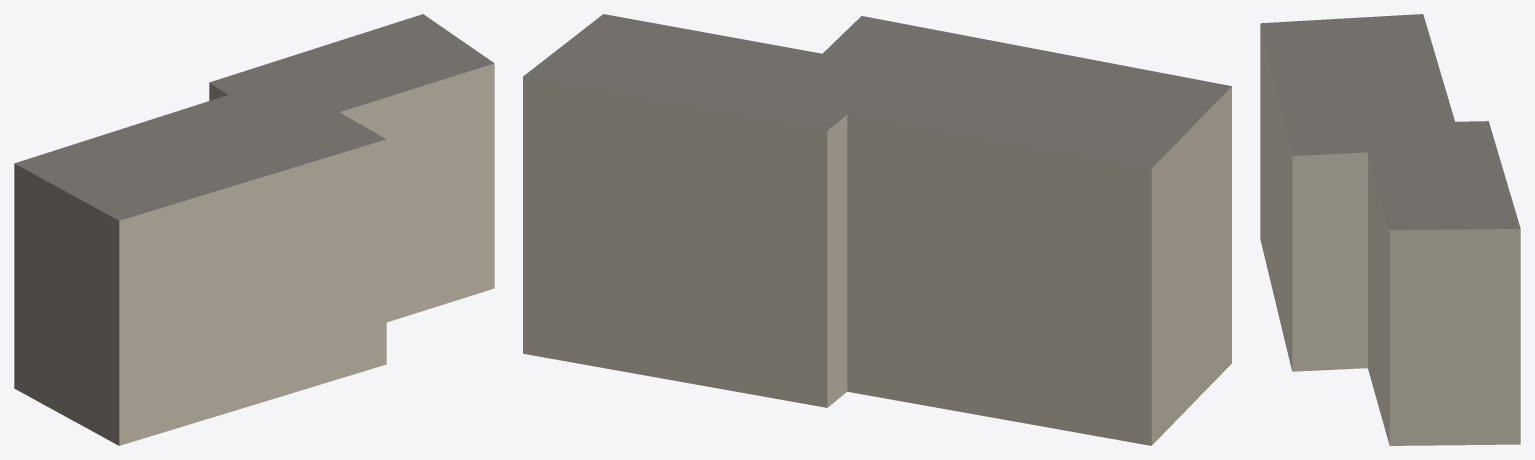
3 views of the same model, side by side, from view 1: azimuth 30°, elevation 25°; view 2: azimuth 150°, elevation 25°; view 3: azimuth 270°, elevation 25° (orthographic). The views are drawn at different scales.
Parts seen in each view (by area): view 1: HP-w505641167; view 2: HP-w505641167; view 3: HP-w505641167.
Boxes of the visible parts, <box> form: HP-w505641167: <box>14,14,494,445</box>; HP-w505641167: <box>523,14,1231,445</box>; HP-w505641167: <box>1260,14,1520,445</box>.
Size of the model in its own units: 38.72 by 18 by 19.7.
